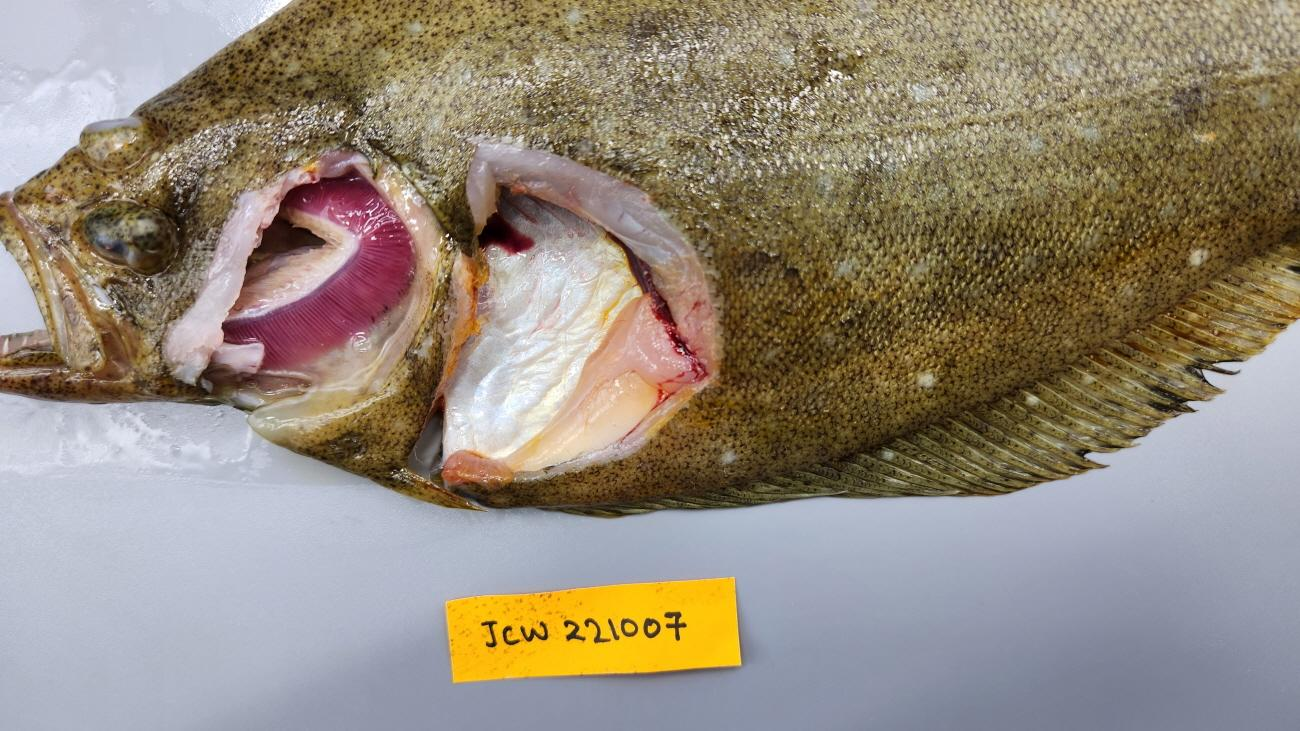POASN: (440, 186, 640, 467)
POKIN: (607, 231, 674, 323)
POREN: (497, 295, 703, 473)
